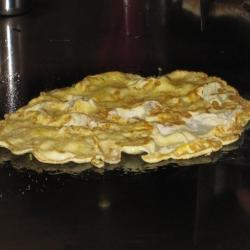omelette: (5, 66, 248, 174)
